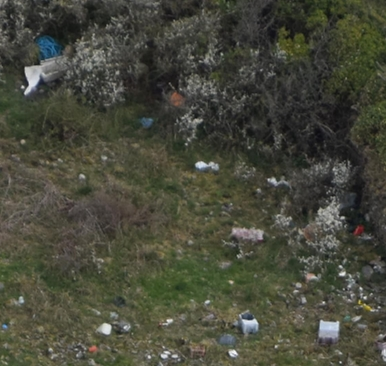scattered_barrel: (85, 290, 344, 366)
white_in_green: (1, 1, 101, 123), (337, 208, 383, 250), (125, 102, 171, 144), (153, 78, 199, 120)
